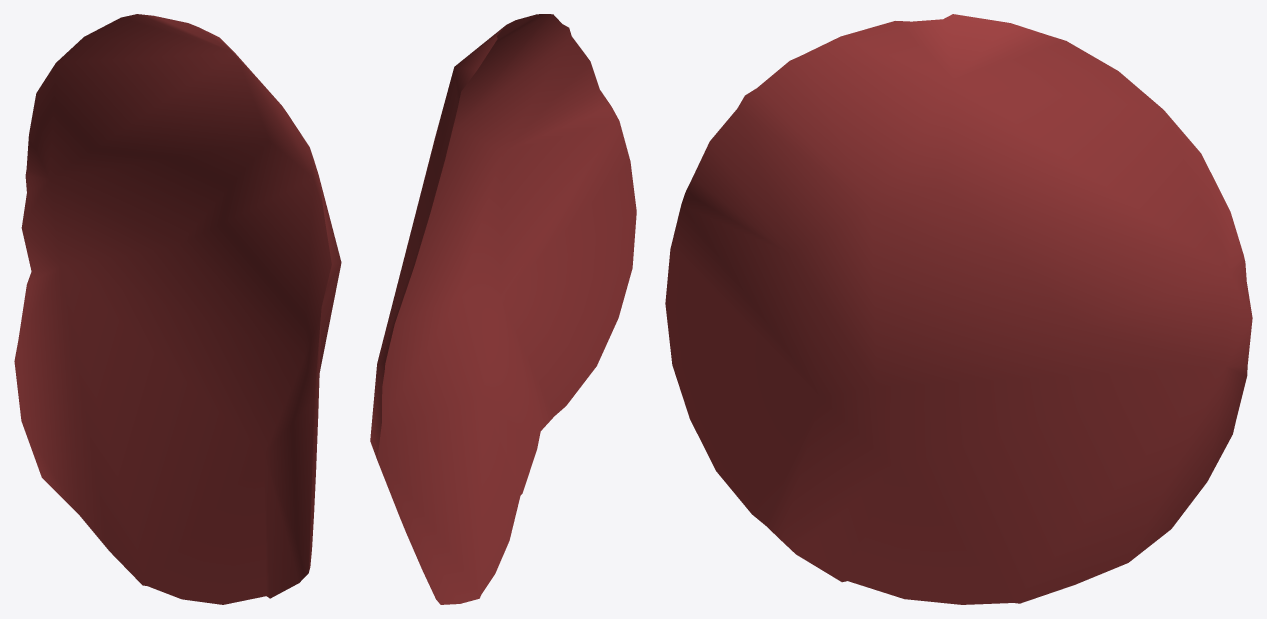
File: abductor-digiti-minimi-of-hand-er.glb
3 renders of one model, left to right at view 1: azimuth 30°, elevation 25°; view 2: azimuth 150°, elevation 25°; view 3: azimuth 270°, elevation 25°, orthographic. The views are drawn at different scales.
Parts seen in each view (by area): view 1: Abductor digiti minimi of hand.er; view 2: Abductor digiti minimi of hand.er; view 3: Abductor digiti minimi of hand.er.
Part boxes in pixels (x1,y1,x2,y2): Abductor digiti minimi of hand.er: (14,14,341,604); Abductor digiti minimi of hand.er: (370,14,636,604); Abductor digiti minimi of hand.er: (665,14,1252,604).
Bounding box in the file's own units: 0.00119 × 0.00519 × 0.00464.
